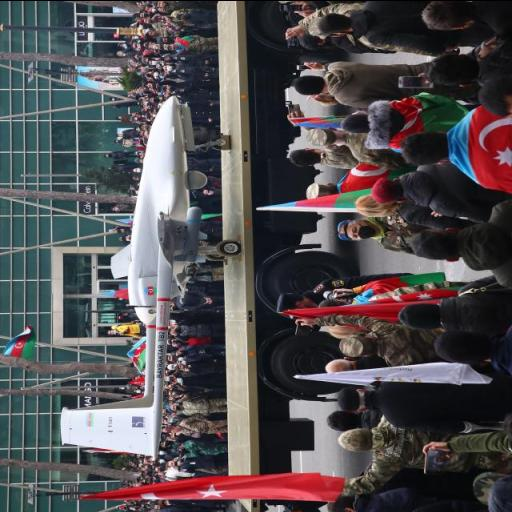uav: (56, 92, 242, 454)
